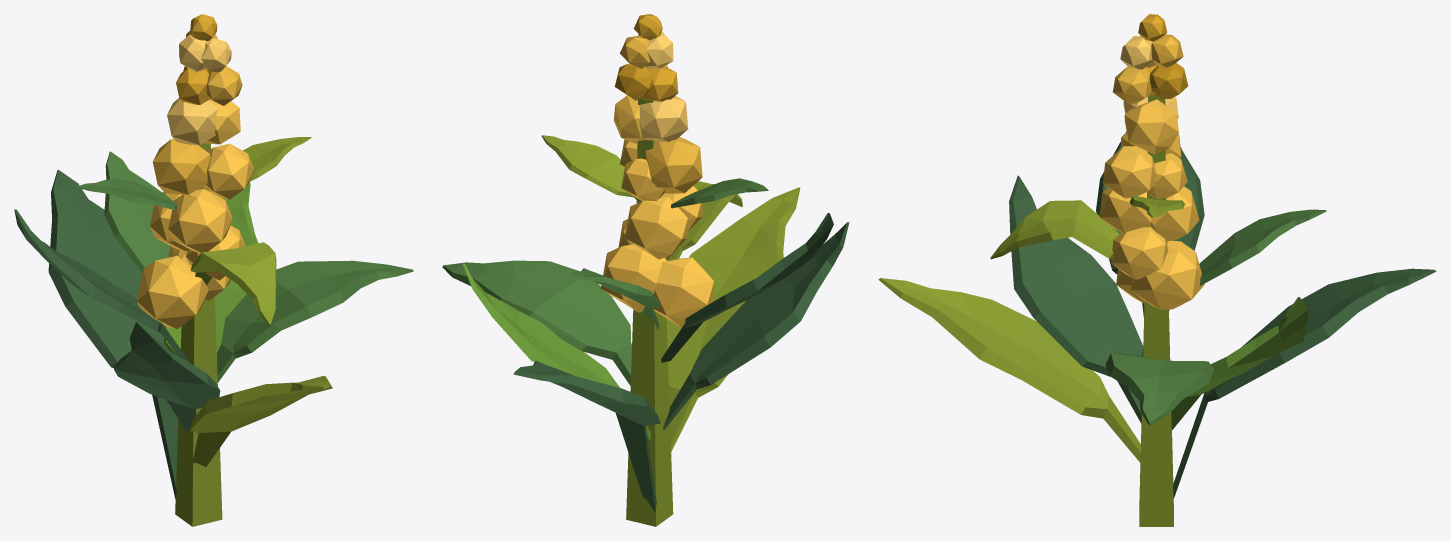
File: EA_M_Env_Flower_02b.fbx
The picture shows the model from 3 angles, left to right: view 1: azimuth 30°, elevation 25°; view 2: azimuth 150°, elevation 25°; view 3: azimuth 270°, elevation 25°; orthographic projection.
Visible parts, largest first — view 1: EA_M_Env_Flower_02b_LOD0; view 2: EA_M_Env_Flower_02b_LOD0; view 3: EA_M_Env_Flower_02b_LOD0.
Boxes of the visible parts, bbox=[...] form: EA_M_Env_Flower_02b_LOD0: bbox=[14, 14, 413, 526]; EA_M_Env_Flower_02b_LOD0: bbox=[442, 14, 849, 526]; EA_M_Env_Flower_02b_LOD0: bbox=[878, 14, 1436, 526].
Size of what is drawn, in the model's own units: 0.6841 by 0.8327 by 0.8338.
